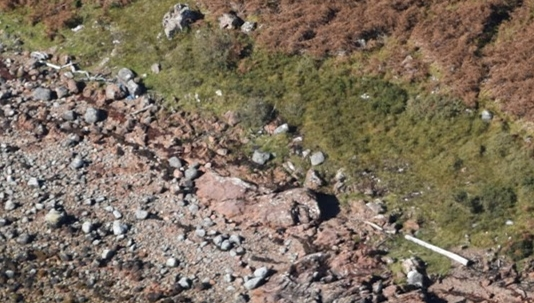straight_bar: (405, 232, 471, 268)
